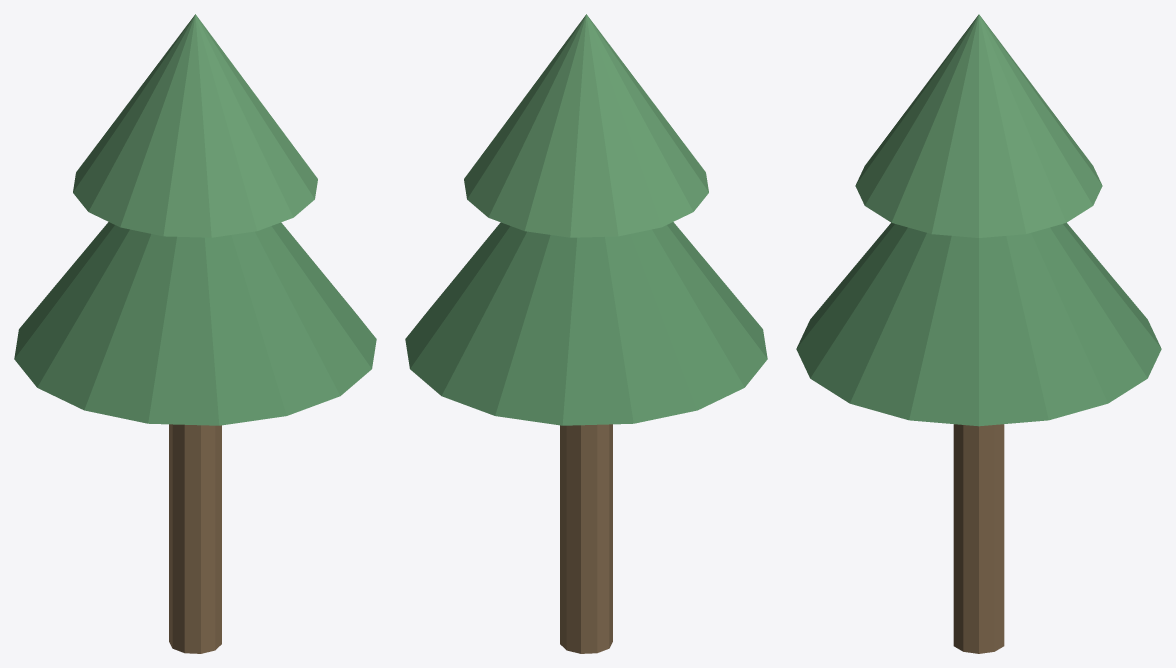
Rendered from tree.glb.
3 renders of one model, left to right at view 1: azimuth 30°, elevation 25°; view 2: azimuth 150°, elevation 25°; view 3: azimuth 270°, elevation 25°, orthographic.
Visible parts, largest first — view 1: tree_0_1, tree_0_2, tree_0_0; view 2: tree_0_1, tree_0_2, tree_0_0; view 3: tree_0_1, tree_0_2, tree_0_0.
Boxes of the visible parts, x1,y1,x2,y2 form: tree_0_1: [14, 222, 376, 425]; tree_0_2: [73, 14, 317, 237]; tree_0_0: [169, 424, 221, 653]; tree_0_1: [405, 222, 767, 425]; tree_0_2: [464, 14, 708, 237]; tree_0_0: [560, 424, 612, 653]; tree_0_1: [796, 222, 1161, 426]; tree_0_2: [855, 14, 1102, 237]; tree_0_0: [953, 424, 1004, 653].
Size of the model in its own units: 2.45 by 4.66 by 2.45.
